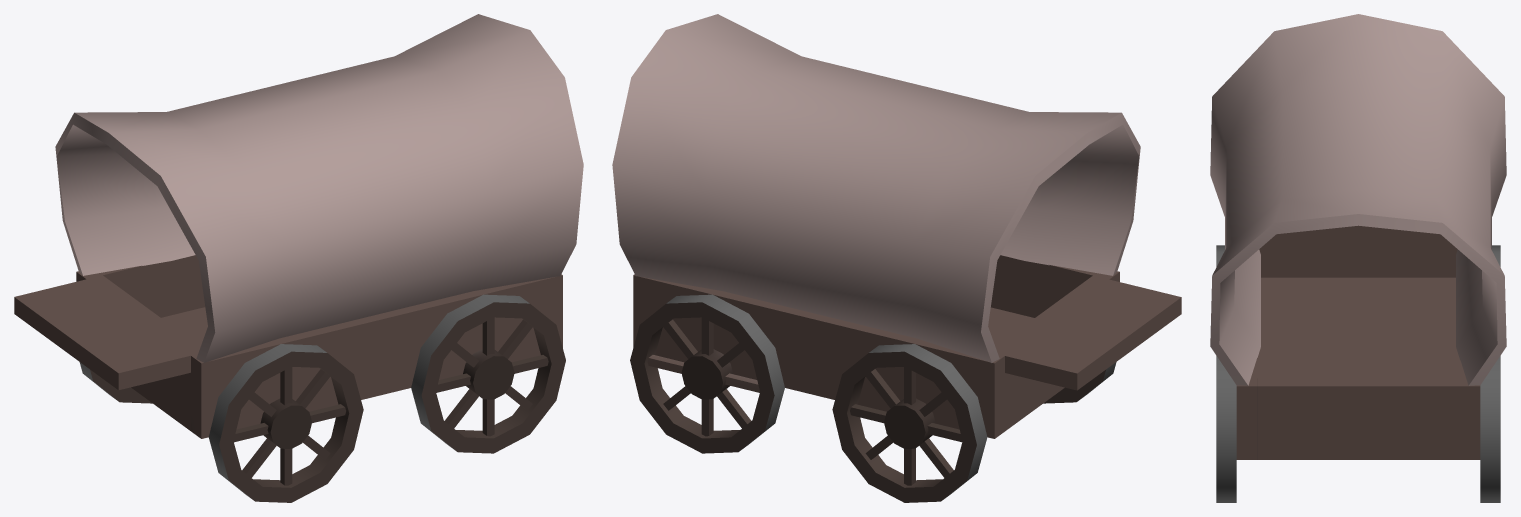
Rendered from telega.fbx.
3 views of the same model, side by side, from view 1: azimuth 30°, elevation 25°; view 2: azimuth 150°, elevation 25°; view 3: azimuth 270°, elevation 25° (orthographic). The views are drawn at different scales.
Parts seen in each view (by area): view 1: Cube; view 2: Cube; view 3: Cube.
Boxes of the visible parts, left/top/right/bottom form: Cube: left=14, top=14, right=583, bottom=502; Cube: left=612, top=14, right=1181, bottom=502; Cube: left=1210, top=14, right=1506, bottom=502.
Size of the model in its own units: 258 by 181 by 146.
